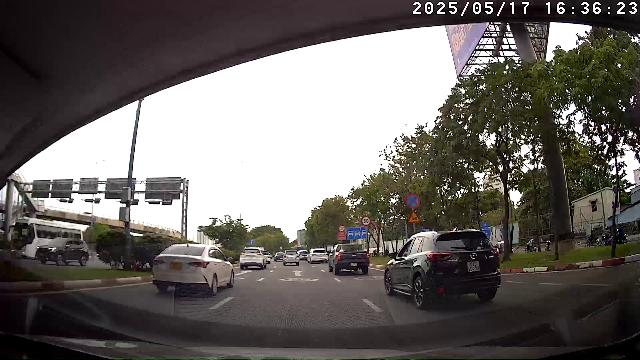127-toc-do-toi-da-60: (361, 216, 371, 226)
130-cam-dung-va-do-xe: (405, 194, 421, 209)
